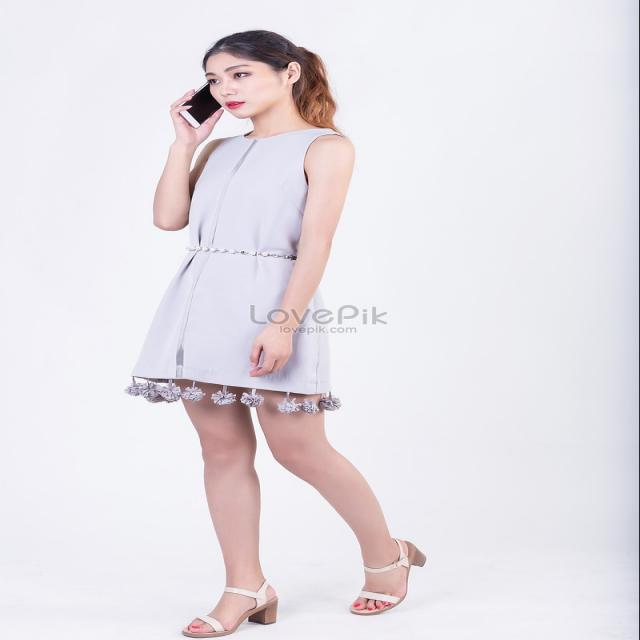phone: (152, 62, 234, 137)
